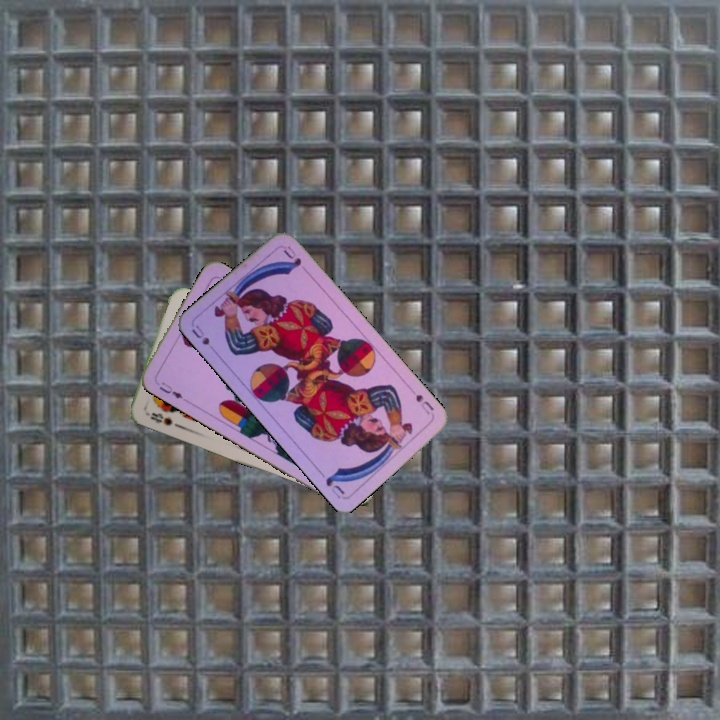EU: (155, 378, 185, 401)
S8: (141, 408, 175, 428)
SU: (187, 321, 220, 357), (411, 390, 437, 419)
